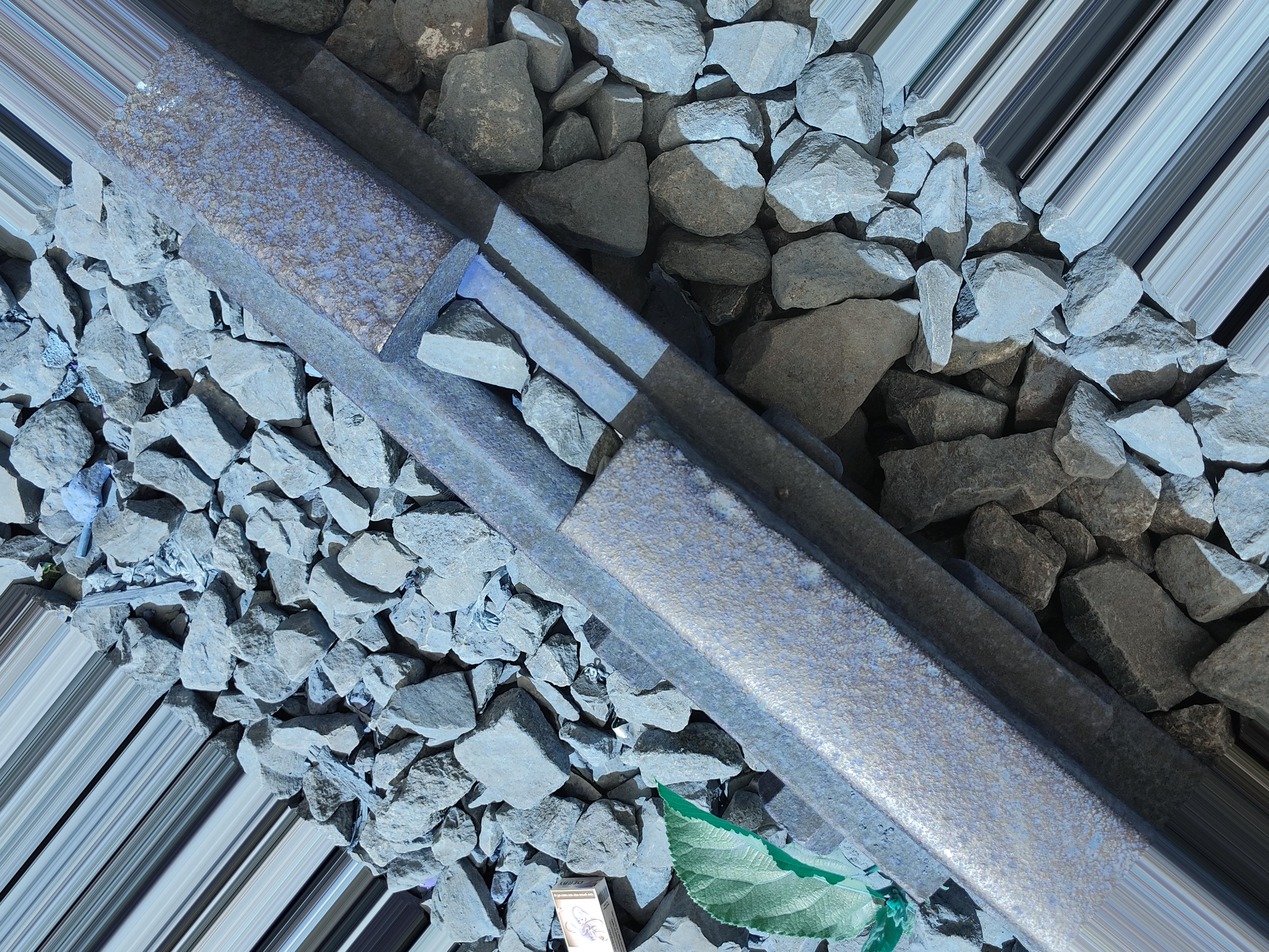tracks_fault: (378, 235, 685, 557)
